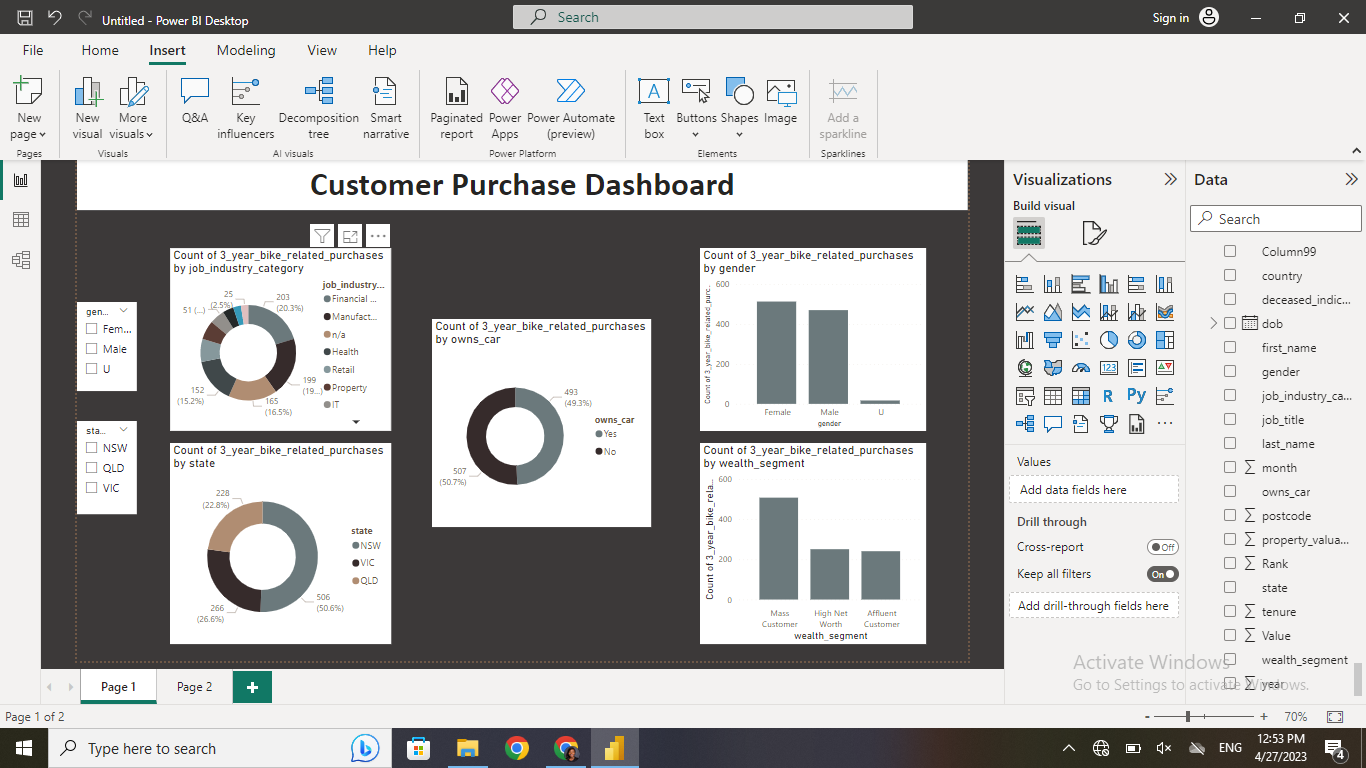

This screenshot's page, from the dashboard's own definition file:
{"tool":"powerbi","page":{"name":"Page 1","canvas":[1280,720],"ordinal":0},"visuals":[{"type":"slicer","fields":{"Values":["NewCustomerList (2).gender"]},"box":[0,204.1,86.2,127.9],"z":0},{"type":"slicer","fields":{"Values":["NewCustomerList (2).state"]},"box":[0,375.1,86.2,133.7],"z":1000},{"type":"donutChart","fields":{"Category":["NewCustomerList (2).state"],"Y":["NewCustomerList (2).3_year_bike_related_purchases"]},"box":[133.7,406.7,317.6,288.9],"z":3000},{"type":"columnChart","fields":{"Category":["NewCustomerList (2).gender"],"Y":["NewCustomerList (2).3_year_bike_related_purchases"]},"box":[895.3,126.5,324.8,263],"z":4000},{"type":"columnChart","fields":{"Category":["NewCustomerList (2).wealth_segment"],"Y":["NewCustomerList (2).3_year_bike_related_purchases"]},"box":[895.3,406.7,324.8,288.9],"z":5000},{"type":"donutChart","fields":{"Category":["NewCustomerList (2).owns_car"],"Y":["NewCustomerList (2).3_year_bike_related_purchases"]},"box":[510.2,228.5,314.7,298.9],"z":6000},{"type":"shape","box":[0,0,1280.5,71.9],"z":7000},{"type":"textbox","box":[0,0,1280.5,71.9],"z":8000},{"type":"donutChart","fields":{"Y":["NewCustomerList (2).3_year_bike_related_purchases"],"Category":["NewCustomerList (2).job_industry_category"]},"box":[133.7,126.5,317.6,263],"z":8500}]}

Visuals, with their boxes on the page's 1280x720 design canvas (x1, y1, x2, y2). These are canvas units, not pixel positions in the 1366x768 screenshot, which may show the page scaled, cropped or inside an application window:
slicer - NewCustomerList (2).gender: rect(0, 204, 86, 332)
slicer - NewCustomerList (2).state: rect(0, 375, 86, 509)
donutChart - NewCustomerList (2).state x NewCustomerList (2).3_year_bike_related_purchases: rect(134, 407, 451, 696)
columnChart - NewCustomerList (2).gender x NewCustomerList (2).3_year_bike_related_purchases: rect(895, 126, 1220, 390)
columnChart - NewCustomerList (2).wealth_segment x NewCustomerList (2).3_year_bike_related_purchases: rect(895, 407, 1220, 696)
donutChart - NewCustomerList (2).owns_car x NewCustomerList (2).3_year_bike_related_purchases: rect(510, 228, 825, 527)
shape: rect(0, 0, 1280, 72)
textbox: rect(0, 0, 1280, 72)
donutChart - NewCustomerList (2).3_year_bike_related_purchases x NewCustomerList (2).job_industry_category: rect(134, 126, 451, 390)
